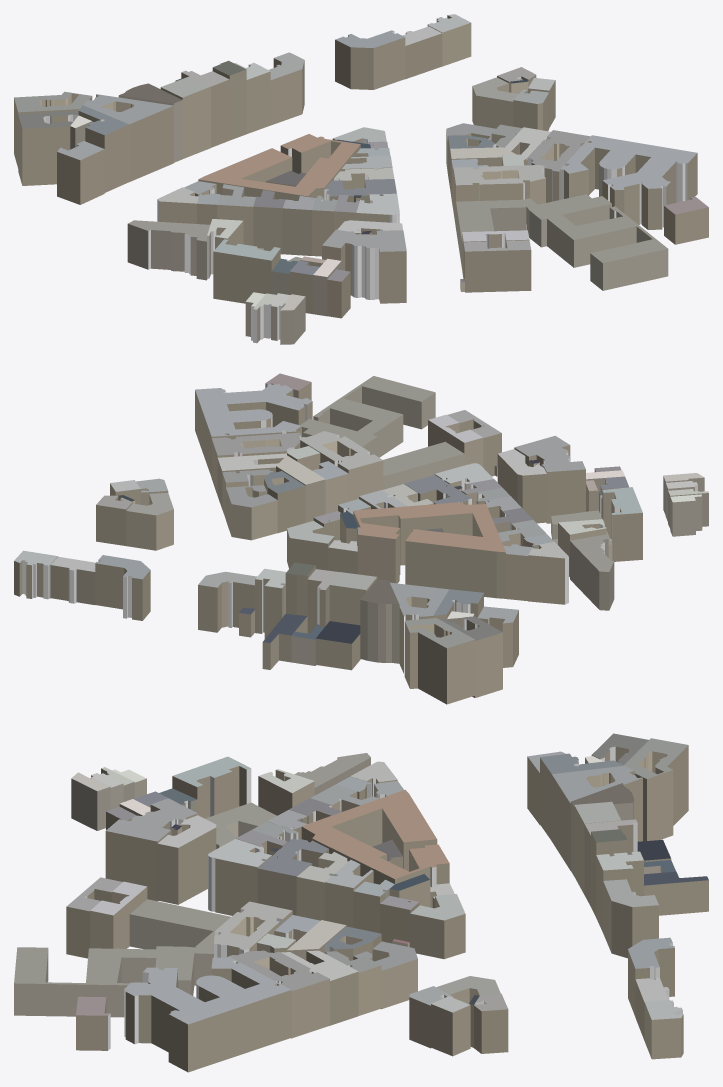
3 renders of one model, top to bottom at view 1: azimuth 30°, elevation 25°; view 2: azimuth 150°, elevation 25°; view 3: azimuth 270°, elevation 25°, orthographic. The views are drawn at different scales.
Parts seen in each view (by area): view 1: tuile; view 2: tuile; view 3: tuile.
Part boxes in pixels (x1,y1,x2,y2): tuile: [14, 14, 708, 344]; tuile: [14, 373, 708, 704]; tuile: [14, 733, 708, 1072].
Size of the model in its own units: 285 by 38.85 by 300.
